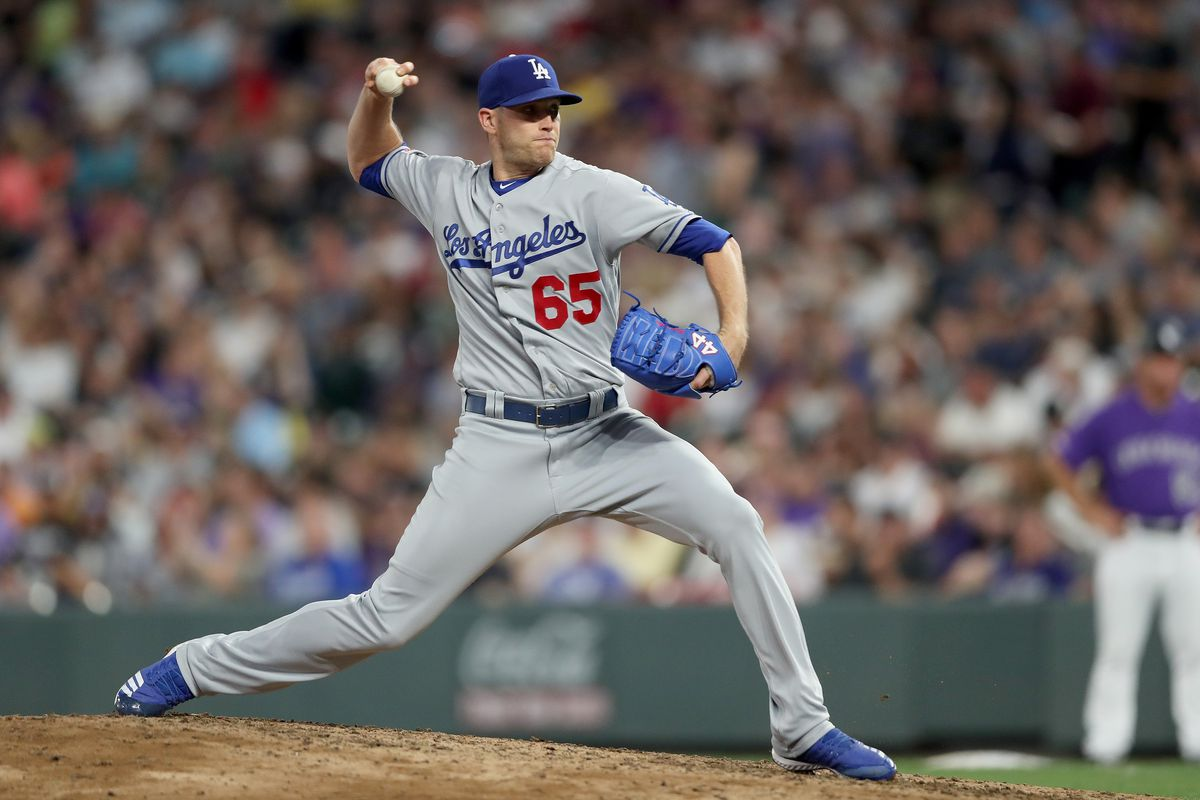Hip: (462, 377, 618, 445)
LeftAnkle: (760, 686, 900, 781)
LeftElbow: (685, 193, 753, 284)
LeftKnee: (690, 474, 774, 587)
LeftShoulder: (580, 139, 658, 278)
RightAnkle: (109, 620, 205, 720)
RightElbow: (331, 101, 387, 207)
RightKnee: (330, 542, 427, 676)
RightShoulder: (404, 132, 476, 258)
Torso: (454, 197, 596, 358)
